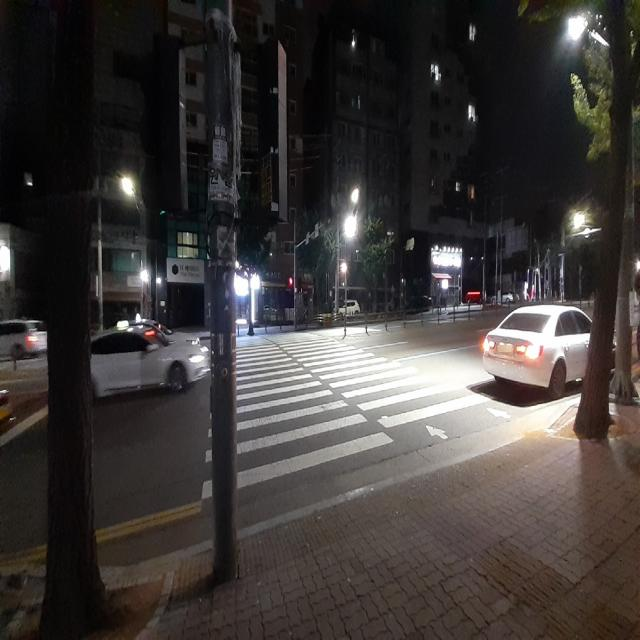횡단보도: (198, 327, 513, 503)
